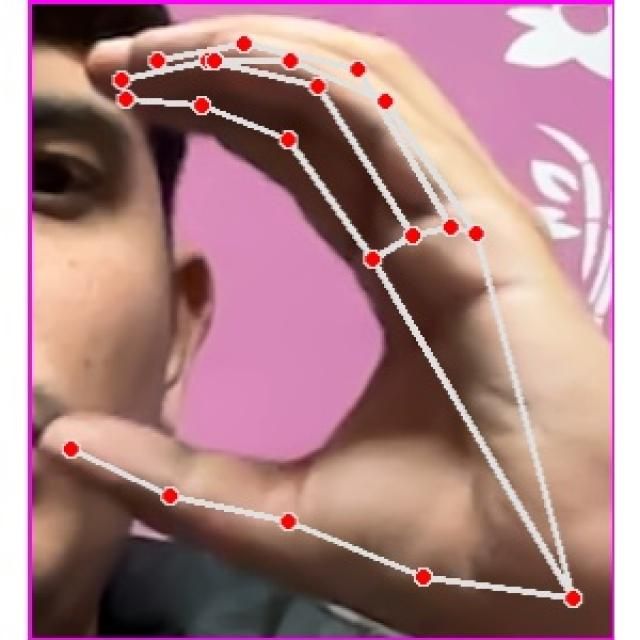C: (28, 4, 612, 640)
